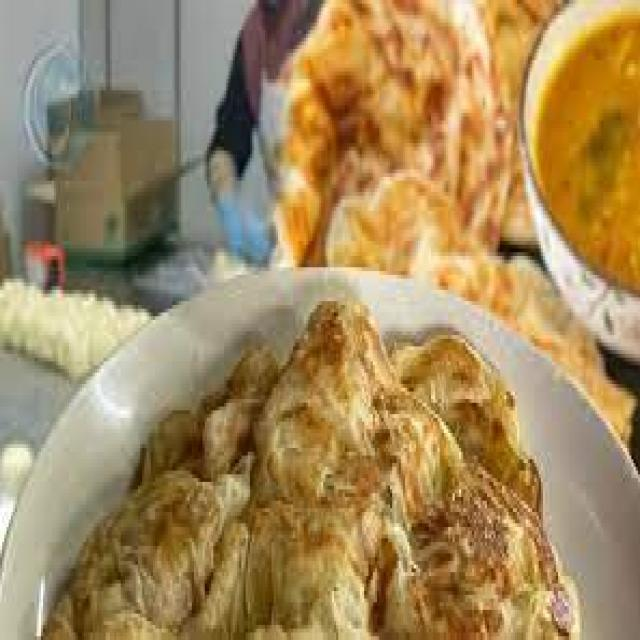Paratha: (44, 234, 622, 640)
